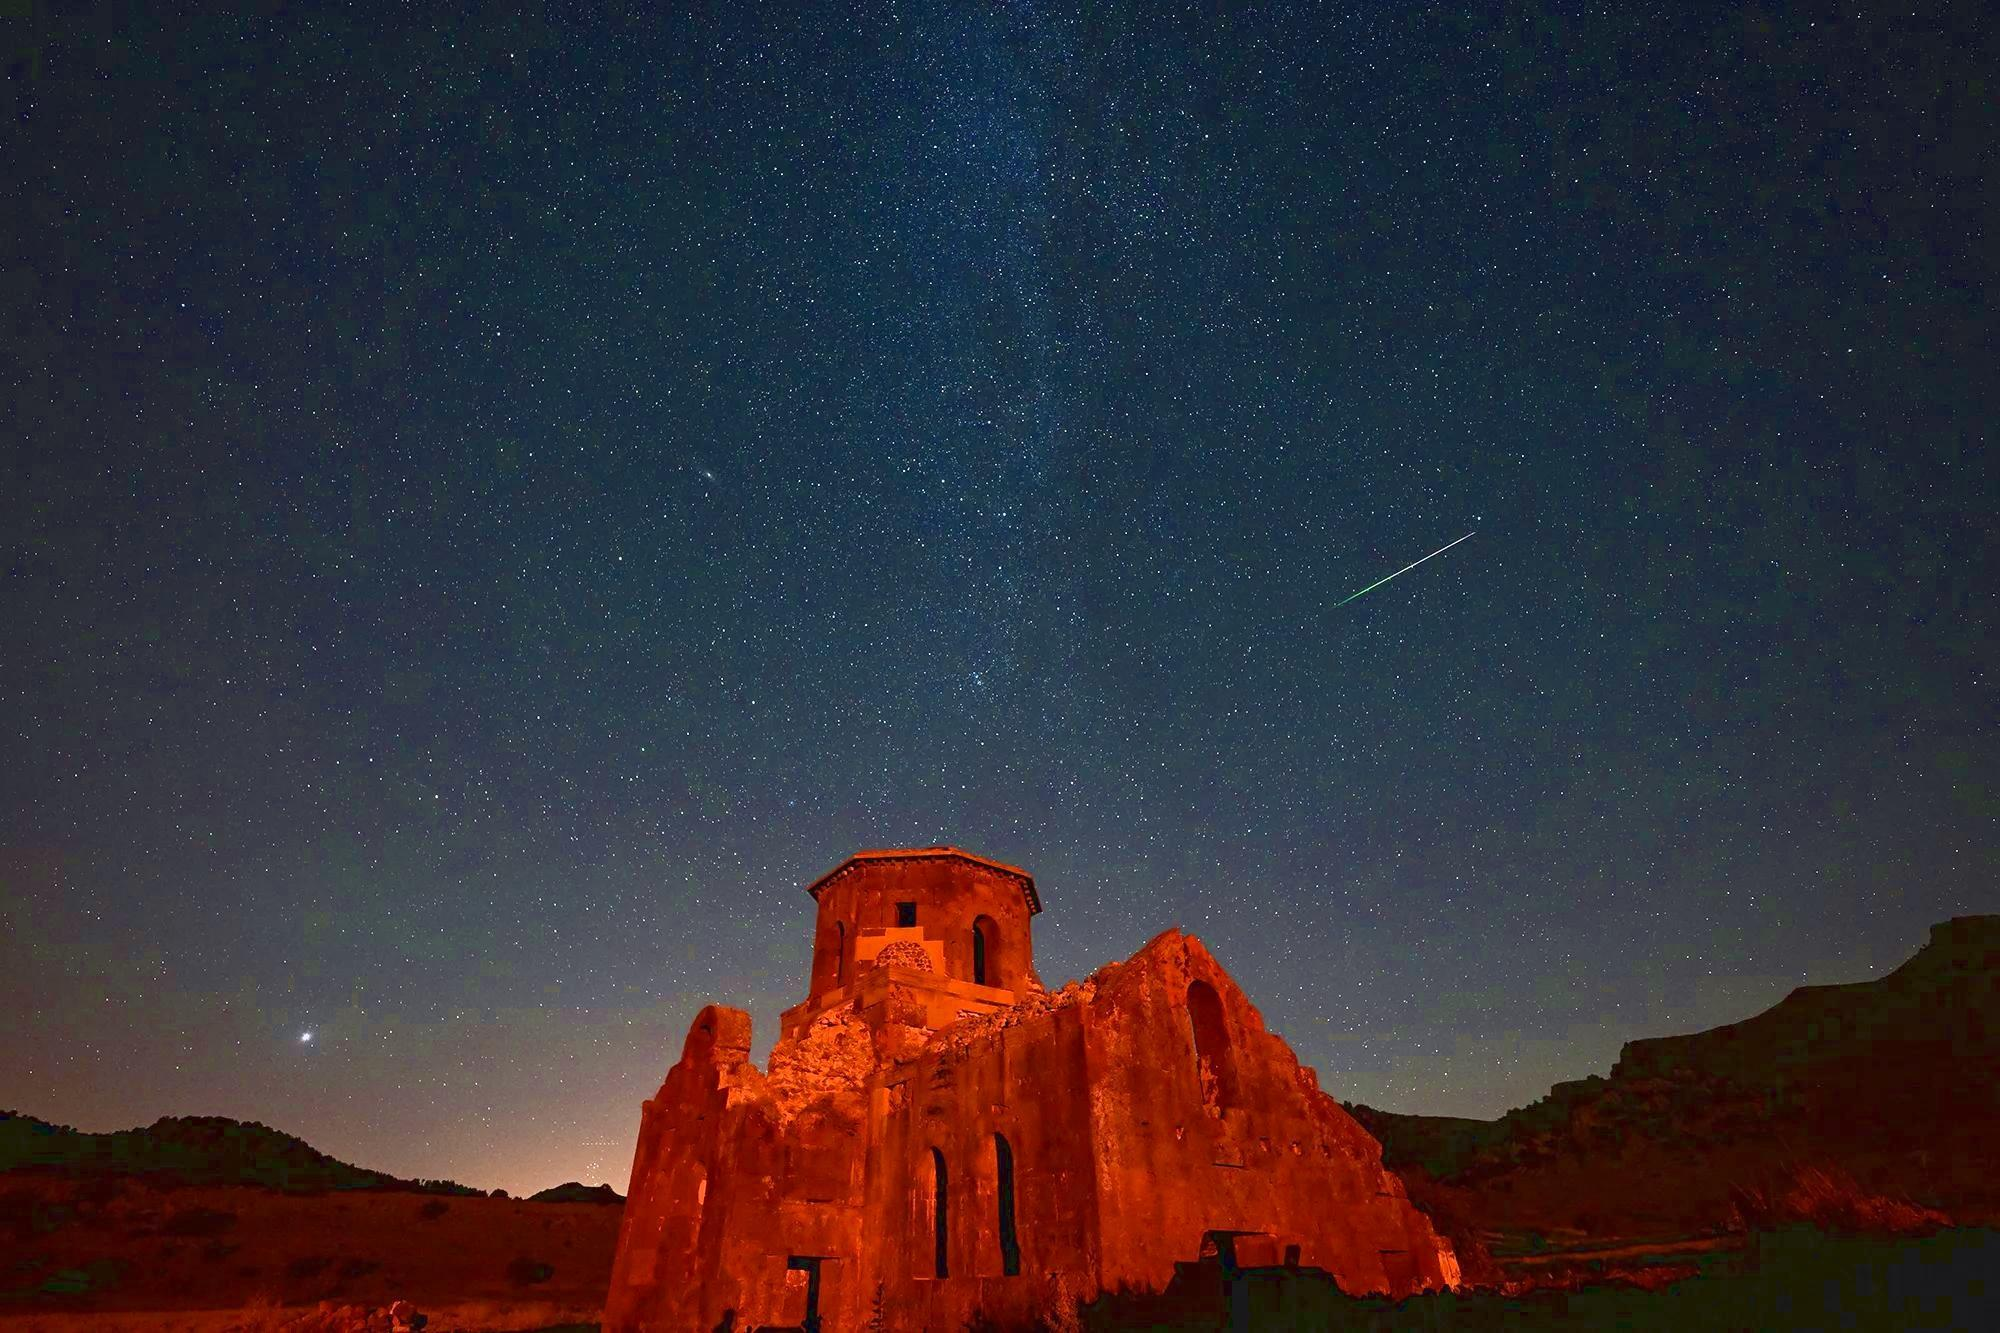meteorite: (1314, 518, 1505, 623)
